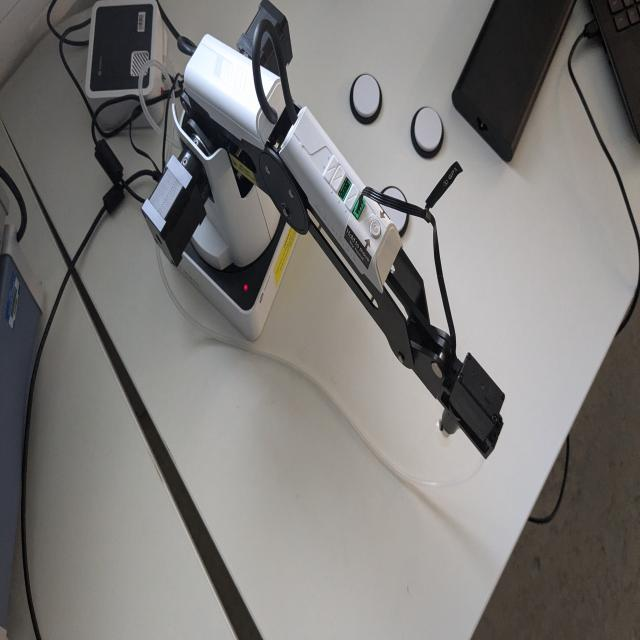Robot-end-effector-HF8z: (434, 351, 514, 463)
